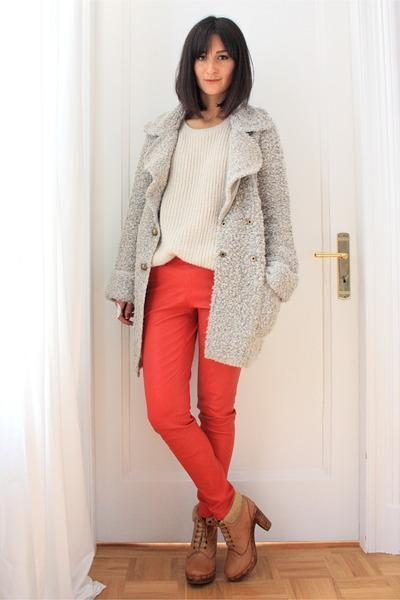jacket: (115, 94, 298, 366), (159, 115, 252, 268)
pants: (121, 256, 241, 515)
shoe: (187, 492, 270, 557)
